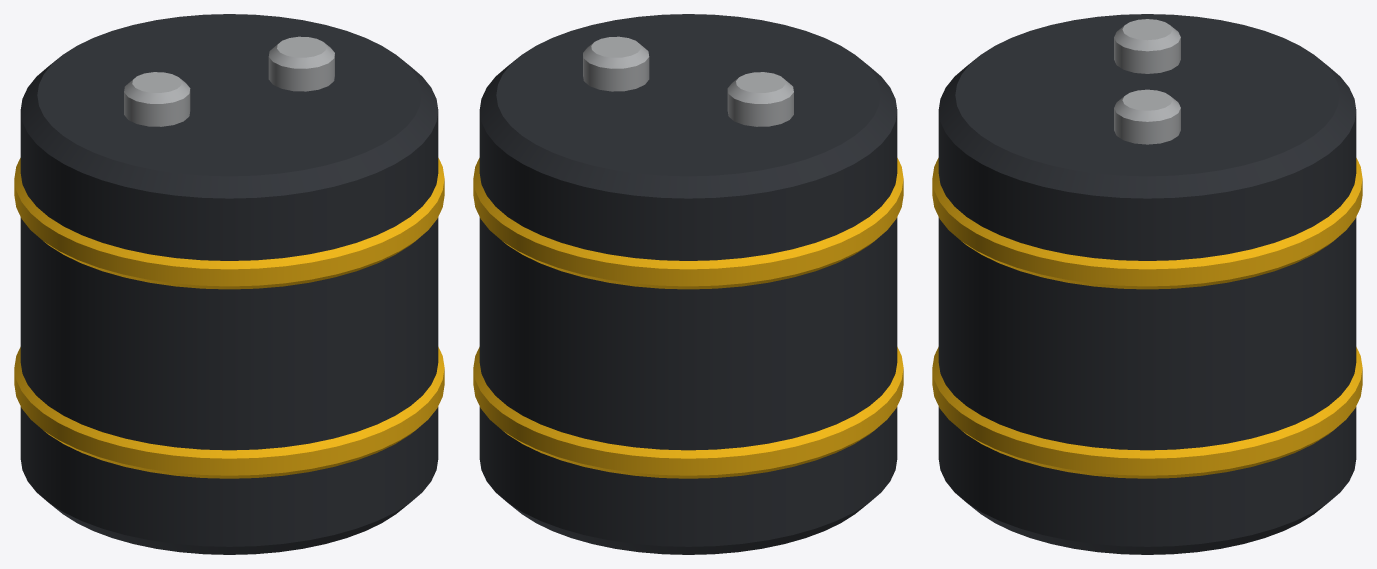
Rendered from battery.glb.
3 views of the same model, side by side, from view 1: azimuth 30°, elevation 25°; view 2: azimuth 150°, elevation 25°; view 3: azimuth 270°, elevation 25° (orthographic).
Parts seen in each view (by area): view 1: Body.001, Band0.22, Band0.72, Terminals; view 2: Body.001, Band0.22, Band0.72, Terminals; view 3: Body.001, Band0.22, Band0.72, Terminals.
Boxes of the visible parts, <box> form: Body.001: <box>20,14,438,554</box>; Band0.22: <box>14,347,444,478</box>; Band0.72: <box>14,158,444,289</box>; Terminals: <box>124,36,334,126</box>; Body.001: <box>479,14,897,554</box>; Band0.22: <box>473,347,903,478</box>; Band0.72: <box>473,158,903,289</box>; Terminals: <box>583,36,793,126</box>; Body.001: <box>938,14,1356,554</box>; Band0.22: <box>932,347,1362,478</box>; Band0.72: <box>932,158,1362,289</box>; Terminals: <box>1114,19,1180,144</box>.
Size of the model in its own units: 1.03 by 1.08 by 1.03.
